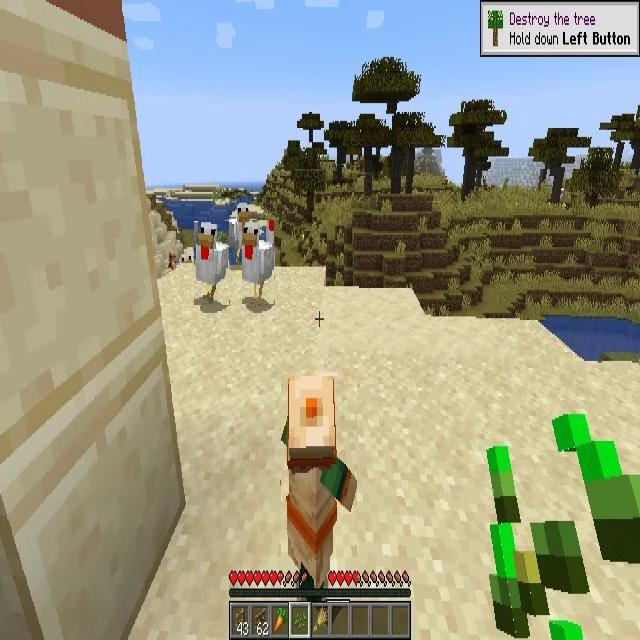duck: (194, 221, 229, 305), (242, 220, 274, 304), (226, 200, 253, 259)
people: (281, 377, 357, 602)
